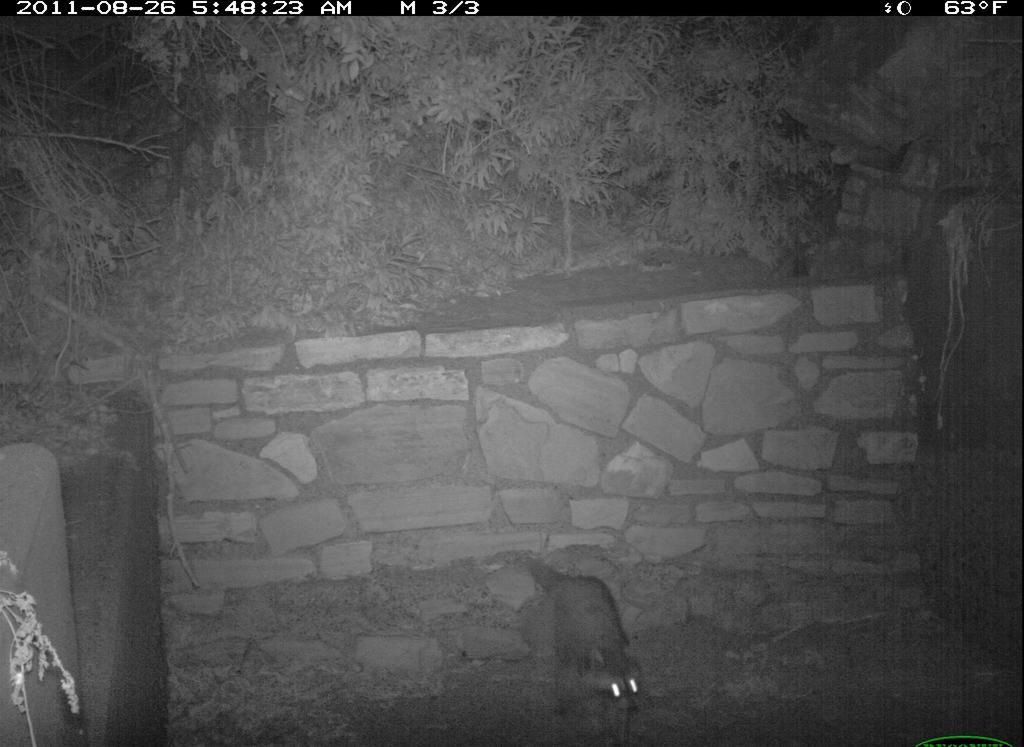raccoon: (506, 520, 666, 742)
